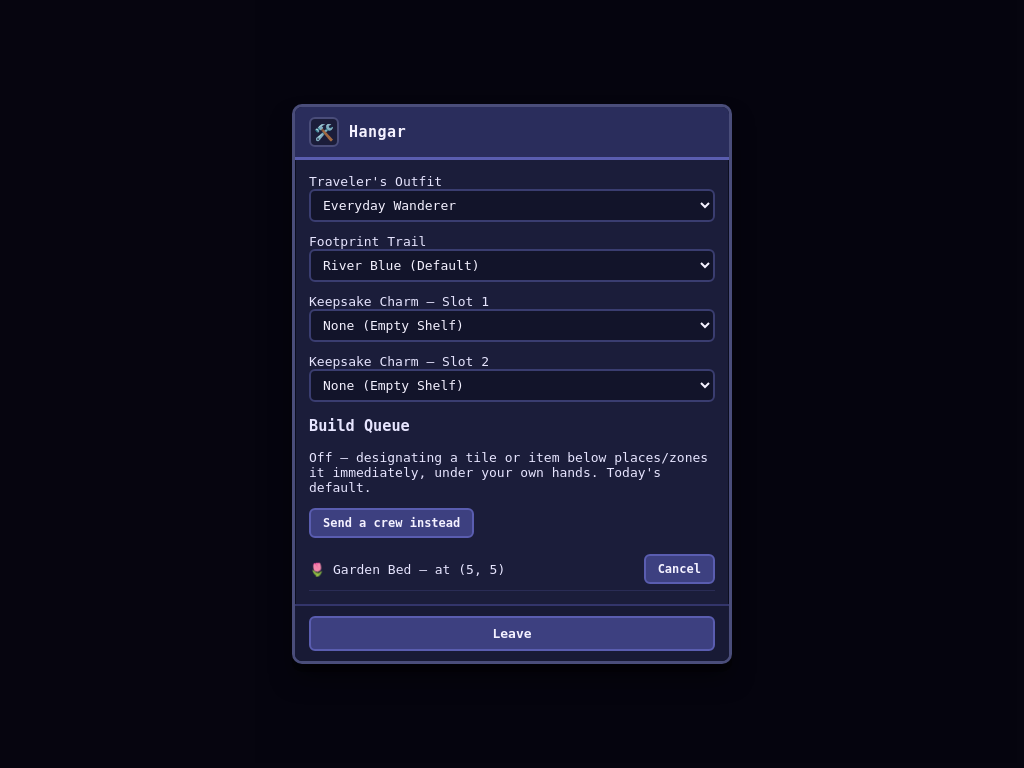
Test: HangarOverlay › Build Queue (build-queue-dispatch.md) › shows a real pending order and cancelling it refunds the treasury and removes the row
Expected: the text "🌷 Garden Bed — at (5, 5)" is shown, 309,562 -> 505,577
Click the button "Cancel" at [679, 569], box 644,554 -> 715,584
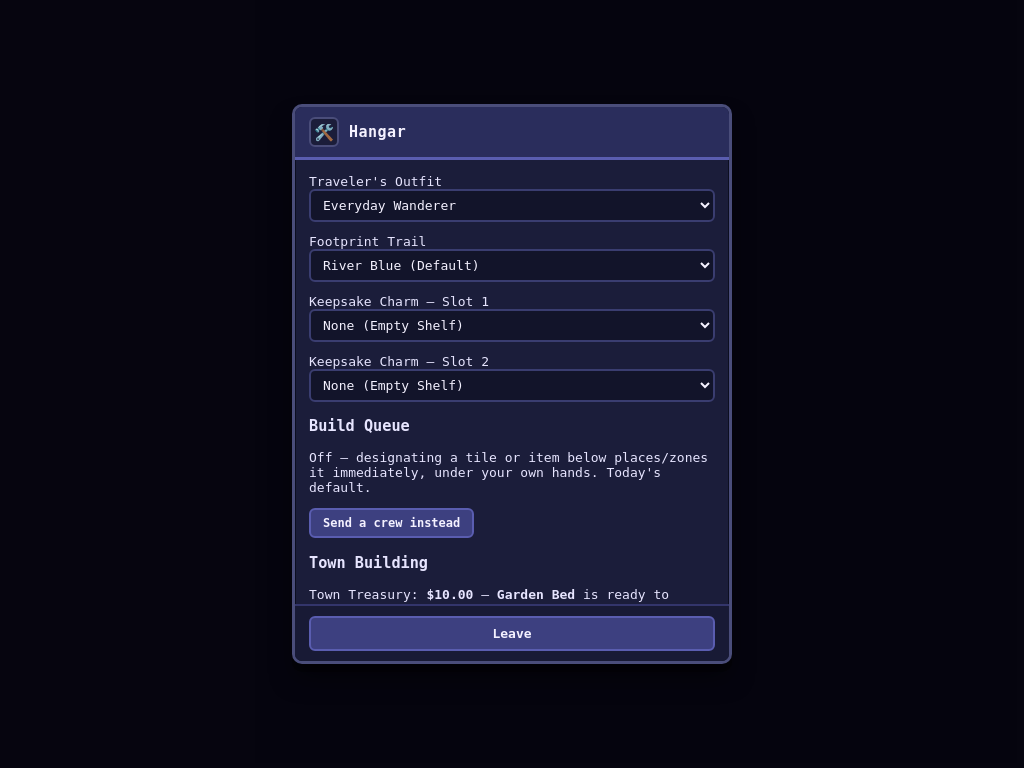
Result: the text "at (5, 5)" is gone
